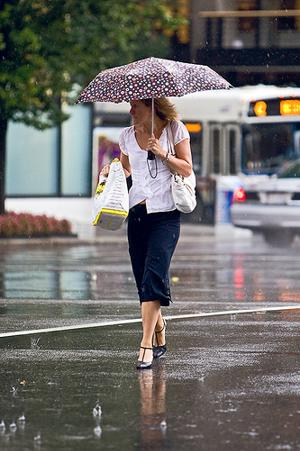person: (102, 98, 195, 368)
